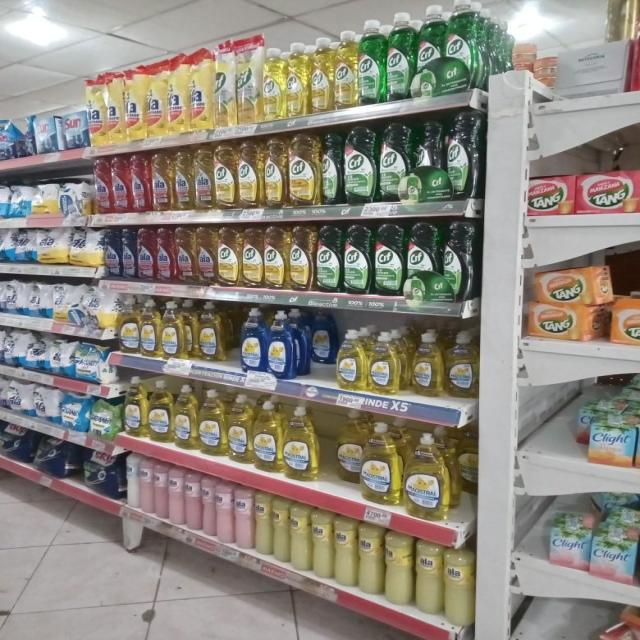ala_conc_amarillo: (151, 150, 173, 212), (194, 144, 213, 211), (175, 226, 196, 284), (174, 147, 193, 211), (196, 226, 216, 285)
ala_conc_azul: (103, 228, 120, 278), (121, 228, 136, 280)
ala_conc_rojo: (130, 153, 151, 212), (111, 154, 129, 213), (156, 227, 174, 284), (136, 227, 154, 282), (93, 156, 110, 214)
ala_crem_amarillo: (444, 539, 475, 630), (415, 538, 442, 616), (358, 522, 383, 596), (334, 516, 357, 588), (312, 509, 333, 581), (254, 492, 272, 557)
ala_crem_rosado: (234, 487, 253, 551), (216, 481, 233, 545), (185, 471, 201, 532), (169, 468, 184, 526), (154, 462, 168, 521), (202, 476, 215, 539), (140, 458, 153, 515)
ala_sachet_amarillo: (190, 46, 212, 132), (146, 57, 167, 138), (168, 52, 188, 134), (125, 65, 145, 142), (88, 74, 106, 146), (107, 69, 124, 143)
cif_conc_bot_amarilla: (288, 132, 319, 207), (334, 30, 357, 110), (288, 224, 315, 292), (261, 45, 285, 121), (237, 138, 262, 210), (285, 42, 309, 117), (310, 36, 333, 114), (263, 136, 287, 209), (264, 226, 288, 290), (214, 142, 236, 210), (217, 226, 240, 287), (241, 226, 263, 288)
cif_conc_botella_verde: (443, 0, 483, 94), (406, 220, 441, 300), (447, 110, 476, 200), (344, 125, 376, 205), (378, 122, 410, 202), (415, 4, 442, 98), (386, 11, 414, 101), (358, 17, 385, 105), (374, 222, 404, 296), (442, 220, 468, 302), (344, 223, 372, 295), (316, 224, 342, 294), (321, 131, 342, 206)
magistral_con_amarillo: (403, 432, 450, 520), (361, 421, 400, 506), (282, 404, 320, 482), (368, 330, 403, 395), (411, 330, 444, 397), (446, 330, 478, 399), (253, 400, 281, 473), (335, 411, 362, 484), (198, 388, 226, 457), (197, 301, 228, 362), (336, 328, 366, 391), (227, 394, 251, 464), (174, 384, 198, 451), (148, 379, 172, 444), (161, 300, 185, 360), (139, 300, 160, 358)
magistral_con_azul: (268, 309, 297, 379), (238, 307, 266, 374)
